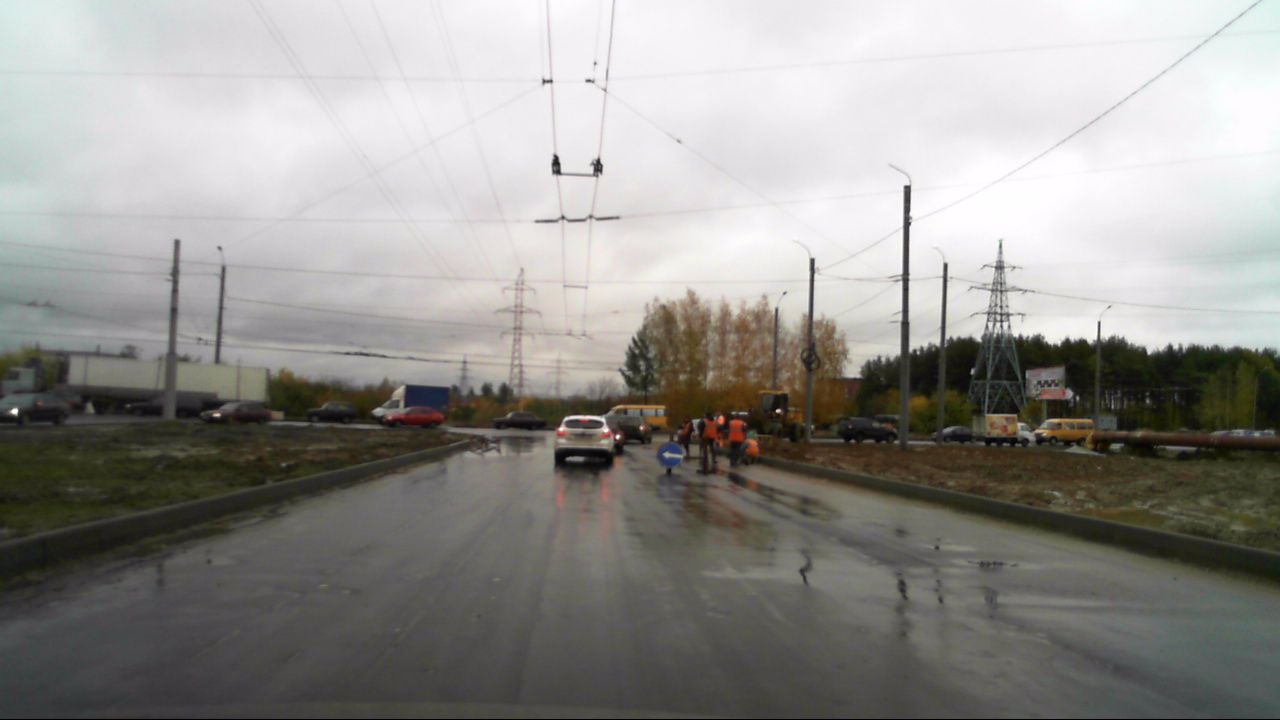Turn Left: (657, 442, 684, 467)
